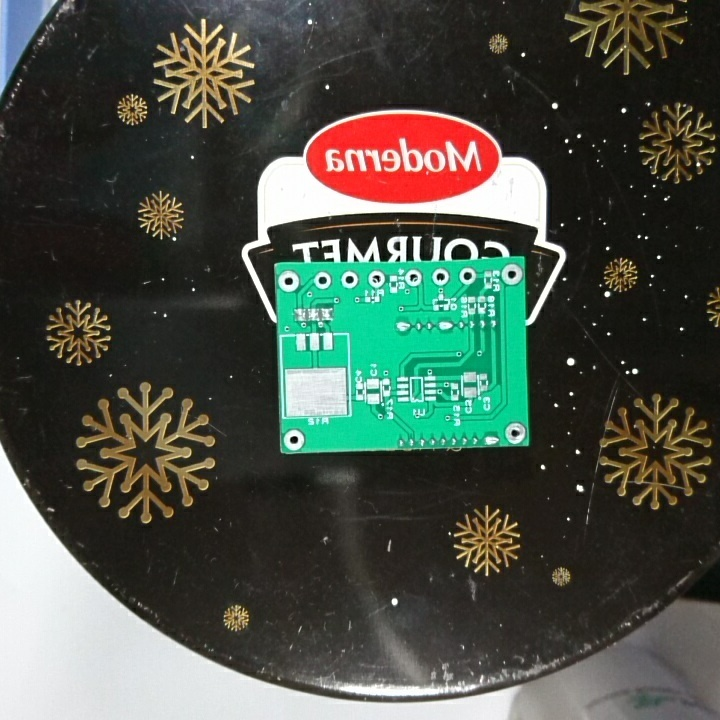F: (277, 269, 302, 295), (502, 419, 528, 444), (282, 427, 307, 452), (499, 263, 524, 287), (311, 269, 335, 291), (404, 267, 426, 289), (430, 266, 451, 289), (457, 266, 479, 287), (365, 269, 388, 289), (339, 269, 360, 290)
P: (435, 318, 456, 335), (393, 318, 413, 334), (481, 433, 502, 446)
